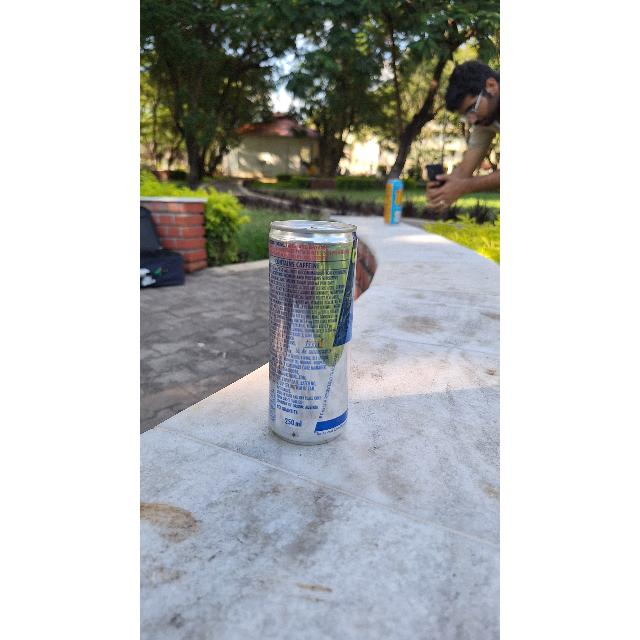Monster Mango Loco: (386, 179, 402, 223)
Redbull: (268, 217, 352, 446)
